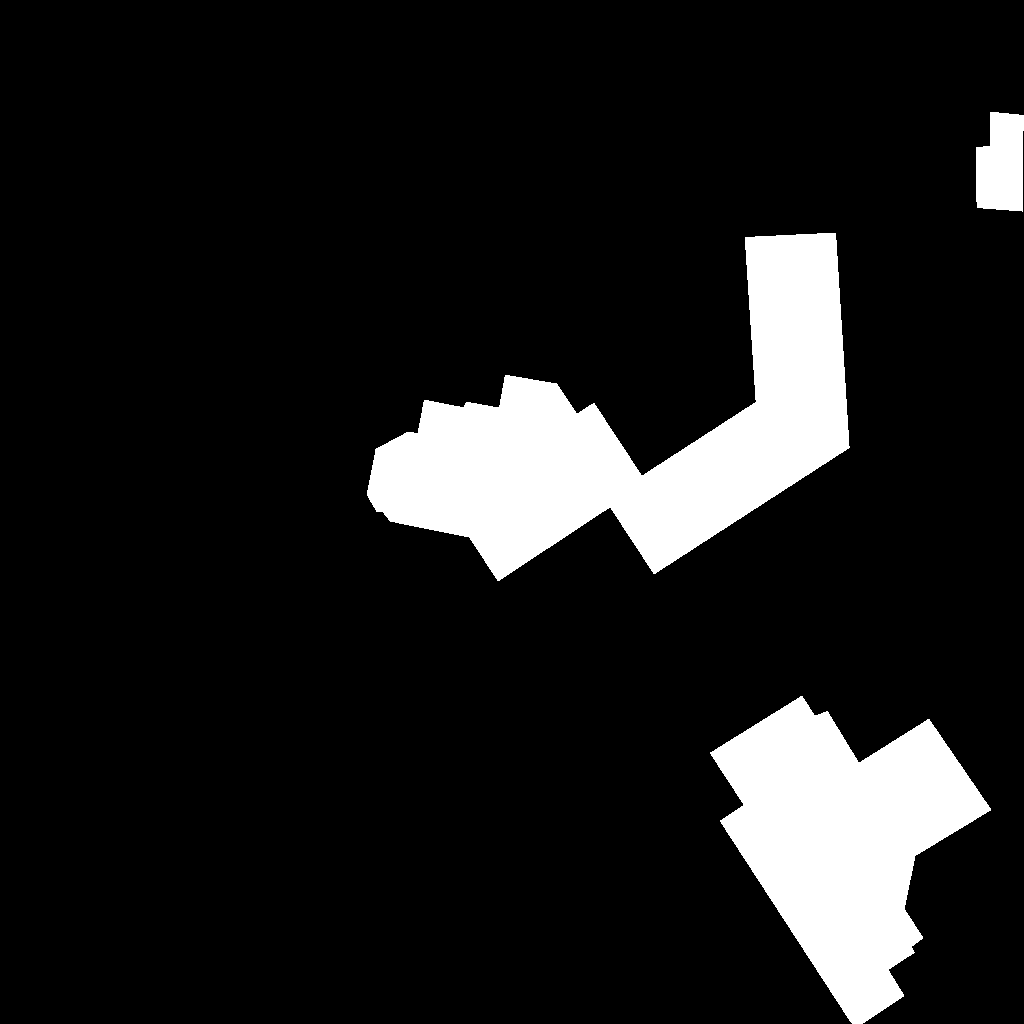building: (367, 233, 850, 582), (710, 696, 992, 1024), (976, 112, 1024, 212)
